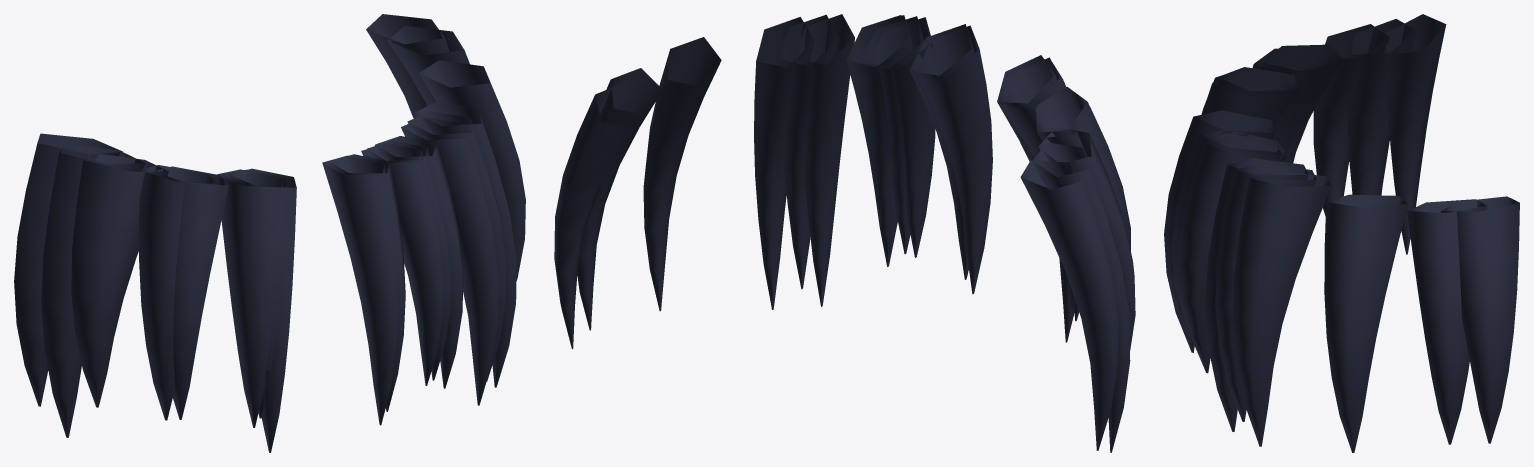
File: anime_hair_bram.glb
3 views of the same model, side by side, from view 1: azimuth 30°, elevation 25°; view 2: azimuth 150°, elevation 25°; view 3: azimuth 270°, elevation 25° (orthographic). The views are drawn at different scales.
Parts seen in each view (by area): view 1: hair; view 2: hair; view 3: hair.
Boxes of the visible parts, x1,y1,x2,y2 form: hair: (14,14,525,452); hair: (554,14,1135,452); hair: (1164,14,1519,452).
Size of the model in its own units: 0.3432 by 0.1854 by 0.2277.
